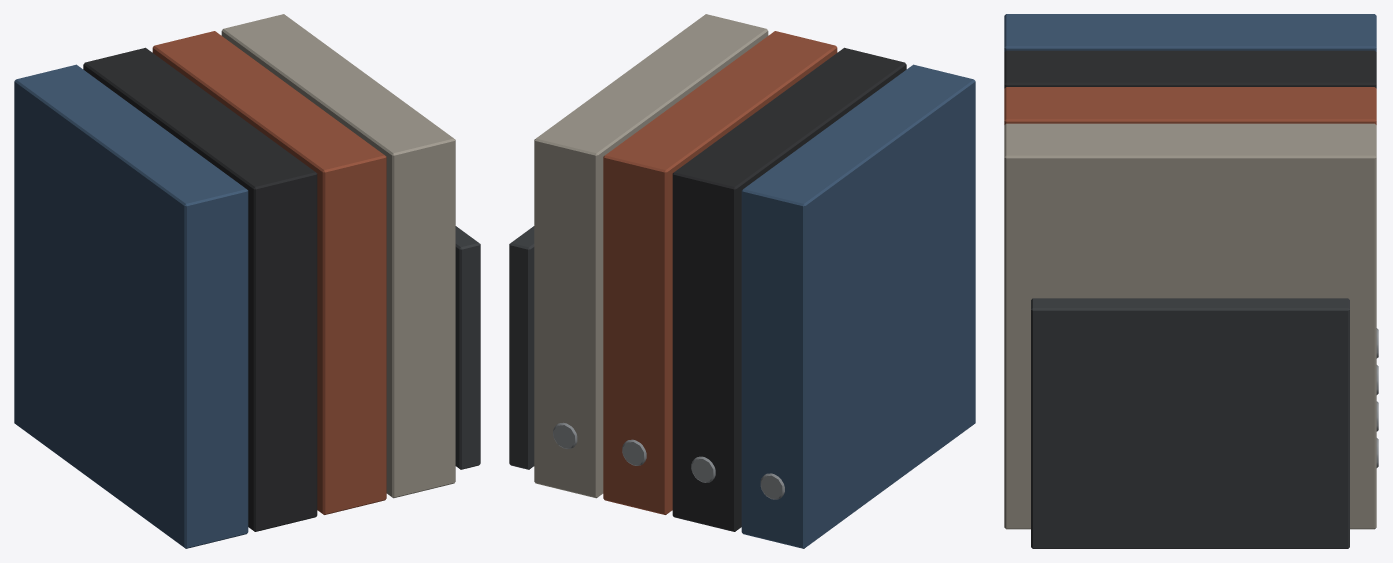
File: prop_binders.glb
The picture shows the model from 3 angles, left to right: view 1: azimuth 30°, elevation 25°; view 2: azimuth 150°, elevation 25°; view 3: azimuth 270°, elevation 25°; orthographic projection. The views are drawn at different scales.
Visible parts, largest first — view 1: Binders; view 2: Binders; view 3: Binders.
Part boxes in pixels (x1,y1,x2,y2): Binders: [14, 14, 480, 548]; Binders: [509, 14, 975, 548]; Binders: [1004, 14, 1378, 548].
Bounding box in the file's own units: 0.29 × 0.31 × 0.2815.
